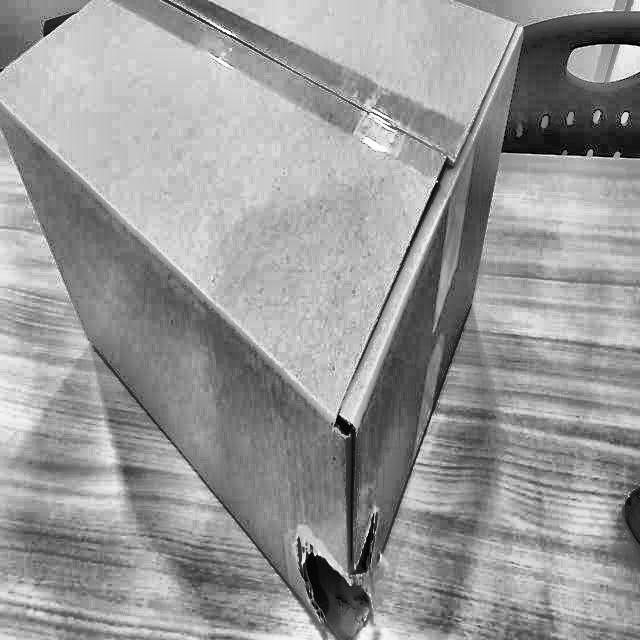box: (0, 0, 534, 639)
hole: (302, 509, 380, 637)
